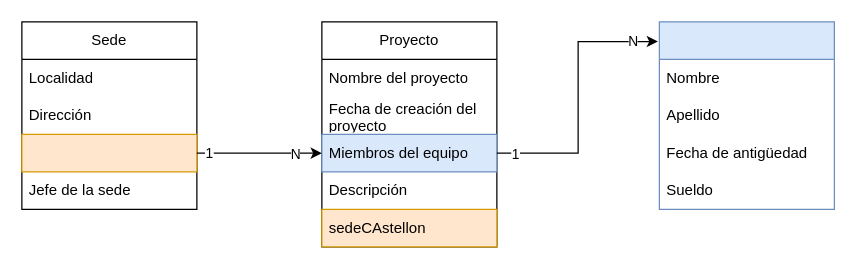
The diagram is 856 pixels wide and 269 high, and some of its shapes have lost their labels. The shapes that lost their labels are listed below. From the top down, each one's box as (x1, y1, x2, y2) in pixels, then its label:
(658, 21, 834, 209): Trabajador
(21, 133, 197, 172): Proyectos
